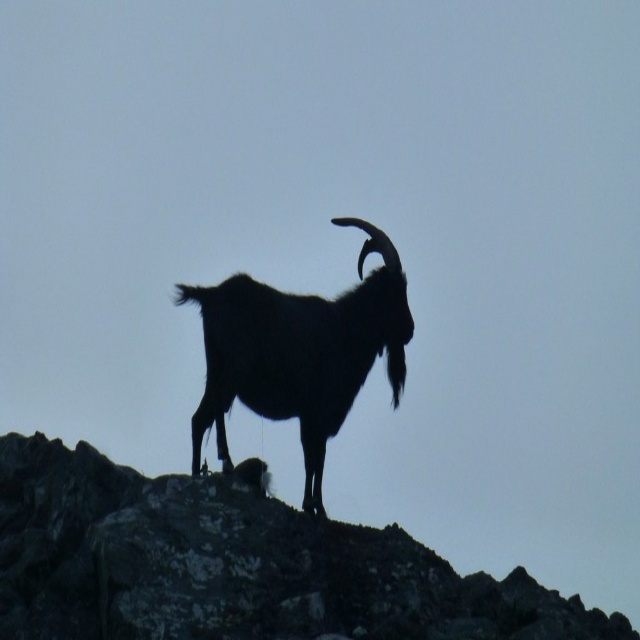Goat: (175, 214, 413, 515)
